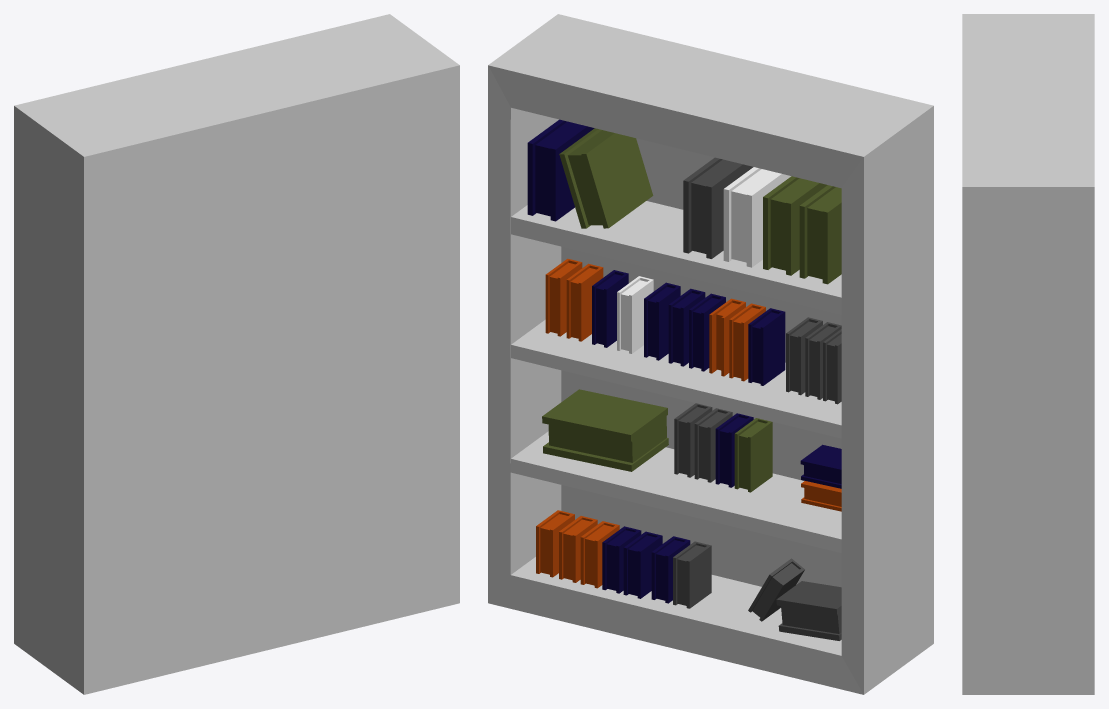
File: libreria1_colorata.fbx
3 renders of one model, left to right at view 1: azimuth 30°, elevation 25°; view 2: azimuth 150°, elevation 25°; view 3: azimuth 270°, elevation 25°, orthographic. The views are drawn at different scales.
Visible parts, largest first — view 1: Generic_33; view 2: Generic_33, Generic_16, Cube_1, Generic_17, Cube, Generic_15, Generic, Generic_1, Generic_32, Generic_10, Generic_21, Generic_25 (+24 smaller); view 3: Generic_33.
Boxes of the visible parts, x1,y1,x2,y2 form: Generic_33: (14,14,459,694); Generic_33: (488,14,933,694); Generic_16: (542,389,668,471); Cube_1: (559,128,653,228); Generic_17: (683,157,753,258); Cube: (527,119,594,221); Generic_15: (723,167,791,267); Generic: (799,185,841,284); Generic_1: (763,176,827,275); Generic_32: (776,581,841,640); Generic_10: (748,308,785,385); Generic_21: (734,418,772,492); Generic_25: (673,541,711,608); Generic_33: (962,14,1094,694).
Bounding box in the file's own units: 2.84 × 3.88 × 0.9155.
